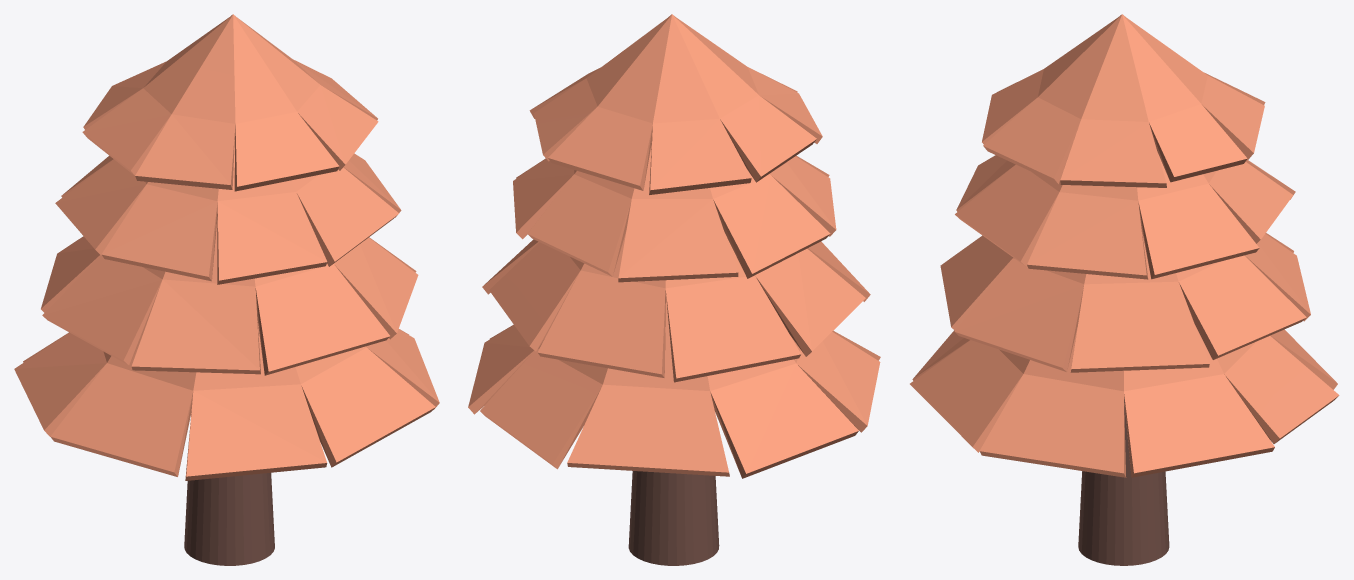
File: tree1.fbx
3 views of the same model, side by side, from view 1: azimuth 30°, elevation 25°; view 2: azimuth 150°, elevation 25°; view 3: azimuth 270°, elevation 25° (orthographic).
Visible parts, largest first — view 1: t5_l; view 2: t5_l; view 3: t5_l.
Boxes of the visible parts, <box> form: t5_l: <box>14,14,439,565</box>; t5_l: <box>468,14,880,565</box>; t5_l: <box>910,14,1339,565</box>.
Bounding box in the file's own units: 2.16 × 2.96 × 2.16.
Materials: 1 (1 with a texture image).
